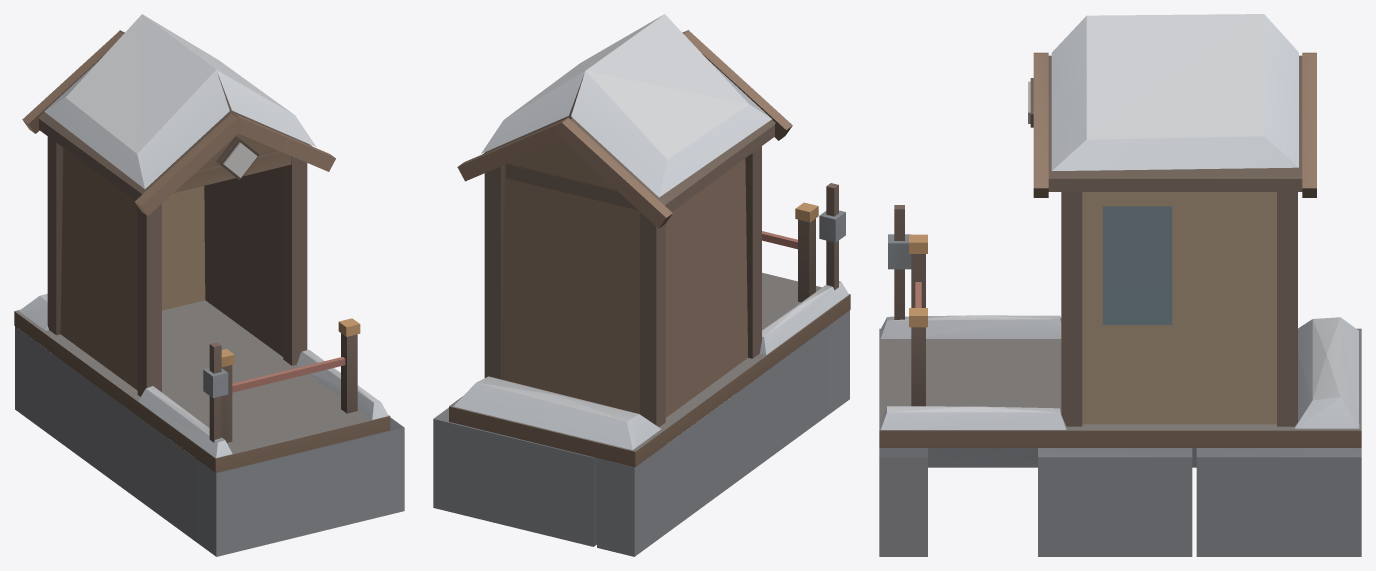
The model's file is starthut.lod2.glb.
3 views of the same model, side by side, from view 1: azimuth 30°, elevation 25°; view 2: azimuth 150°, elevation 25°; view 3: azimuth 270°, elevation 25° (orthographic). The views are drawn at different scales.
Bounding box in the file's own units: 2.61 × 5.05 × 4.56.
